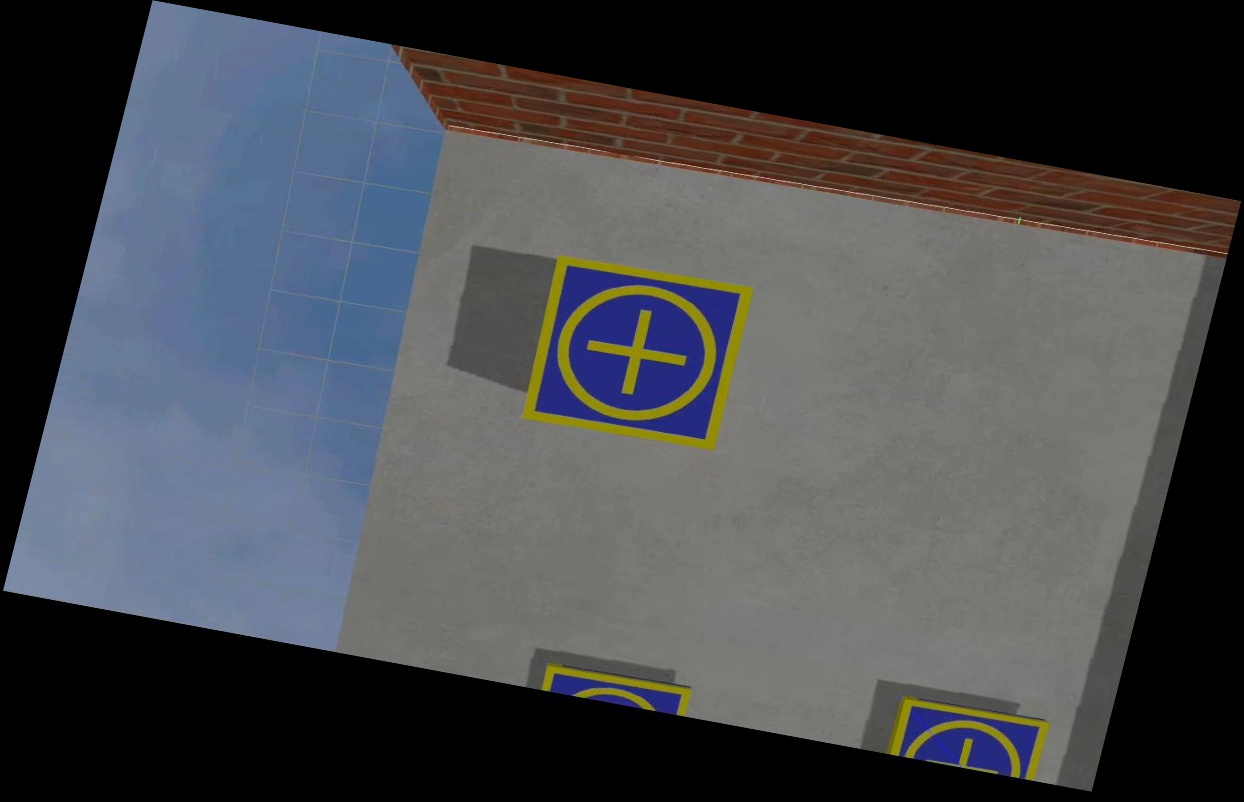small_base: (517, 254, 755, 457), (885, 693, 1050, 783), (537, 660, 694, 720)
